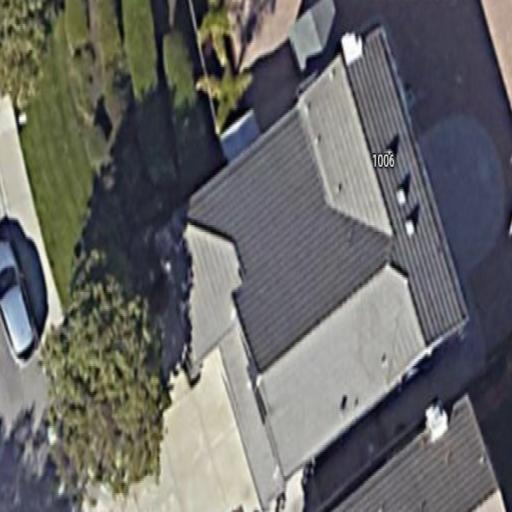TreeShading-Slope-Roof: (153, 27, 469, 481)
